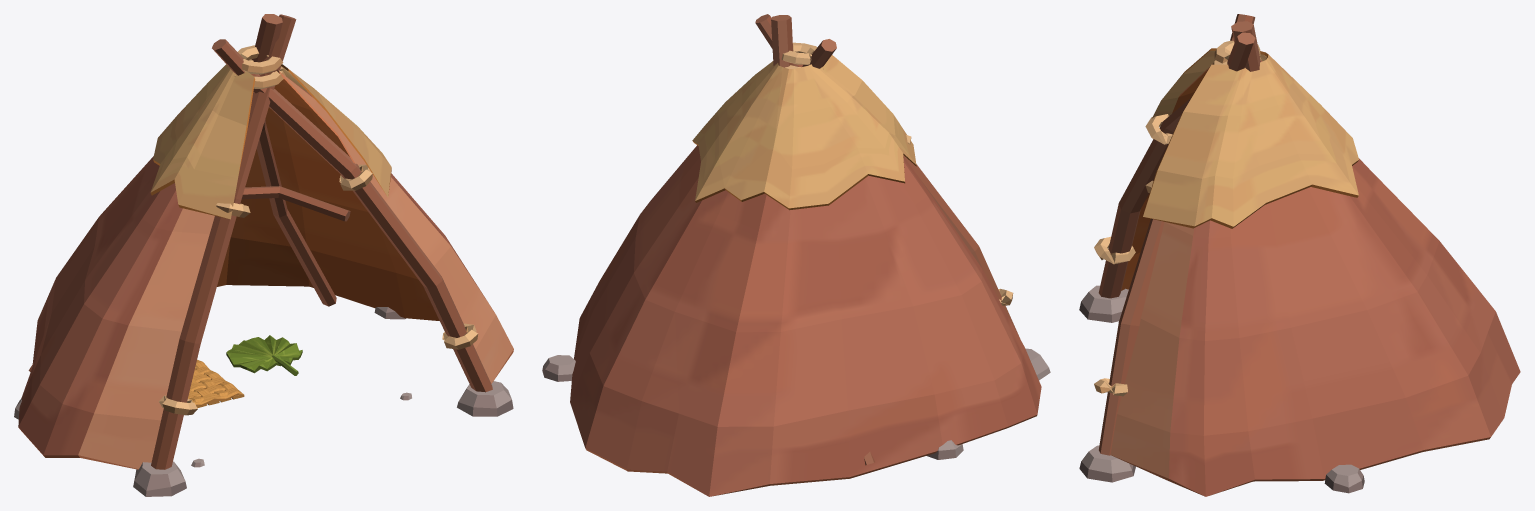
The model's file is 03_Russet_Long_Skirt.glb.
3 views of the same model, side by side, from view 1: azimuth 30°, elevation 25°; view 2: azimuth 150°, elevation 25°; view 3: azimuth 270°, elevation 25° (orthographic). The views are drawn at different scales.
Parts seen in each view (by area): view 1: 03_Russet_Long_Skirt; view 2: 03_Russet_Long_Skirt; view 3: 03_Russet_Long_Skirt.
Boxes of the visible parts, box(x1,y1,x2,y2) form: 03_Russet_Long_Skirt: box(14, 14, 513, 496); 03_Russet_Long_Skirt: box(542, 14, 1050, 496); 03_Russet_Long_Skirt: box(1079, 14, 1520, 496).
Size of the model in its own units: 9.68 by 7.7 by 8.07.
Materials: 3 (3 with a texture image).
